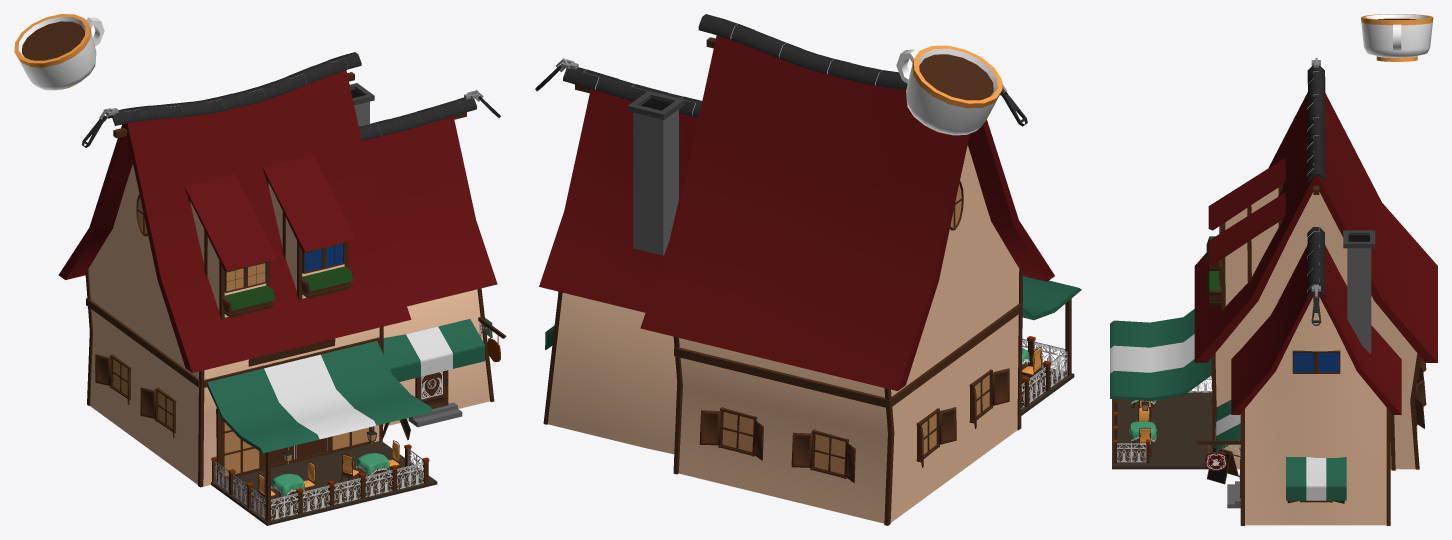
Rendered from HouseCoffe.fbx.
3 renders of one model, left to right at view 1: azimuth 30°, elevation 25°; view 2: azimuth 150°, elevation 25°; view 3: azimuth 270°, elevation 25°, orthographic. The views are drawn at different scales.
Visible parts, largest first — view 1: HouseCoffe, Coffee; view 2: HouseCoffe, Coffee; view 3: HouseCoffe, Coffee.
Part boxes in pixels (x1,y1,x2,y2): HouseCoffe: (58,52,506,525); Coffee: (14,14,104,90); HouseCoffe: (535,14,1081,525); Coffee: (896,45,1002,135); HouseCoffe: (1110,58,1437,525); Coffee: (1361,14,1433,61).
Bounding box in the file's own units: 2229 × 1952 × 1601.
